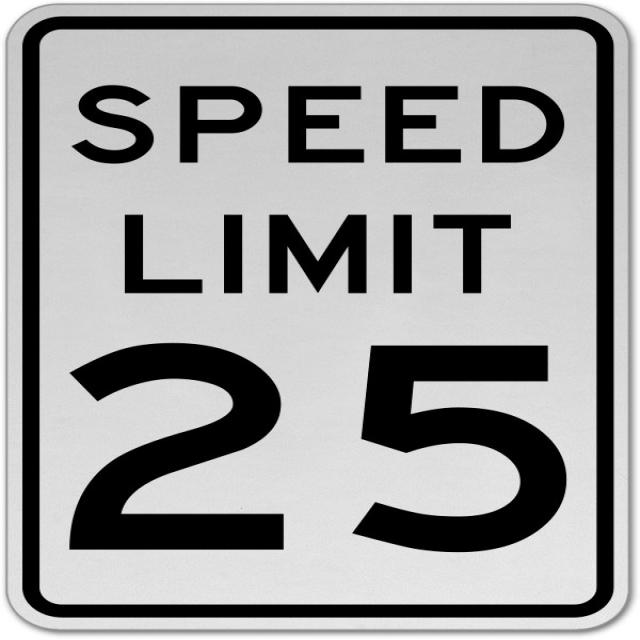speedLimit25: (9, 5, 626, 631)
